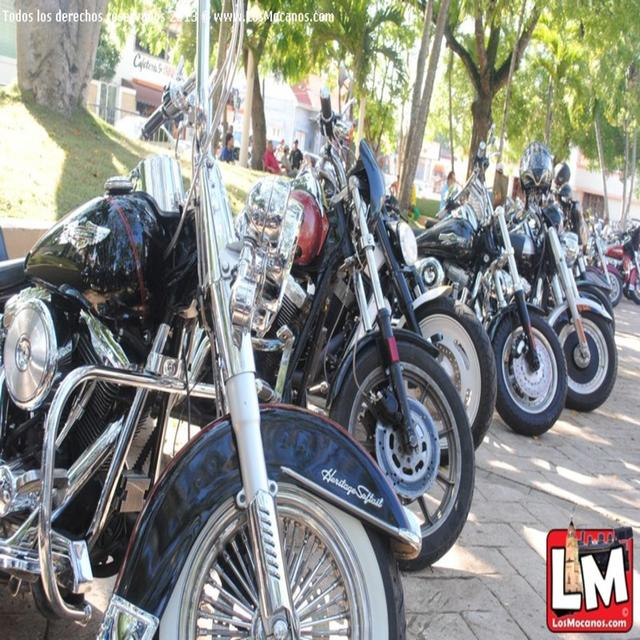License_Plate: (0, 0, 421, 639), (170, 61, 474, 571), (286, 196, 498, 470), (416, 123, 570, 441), (502, 190, 618, 408), (559, 233, 617, 334), (583, 211, 625, 308), (606, 223, 639, 304)
